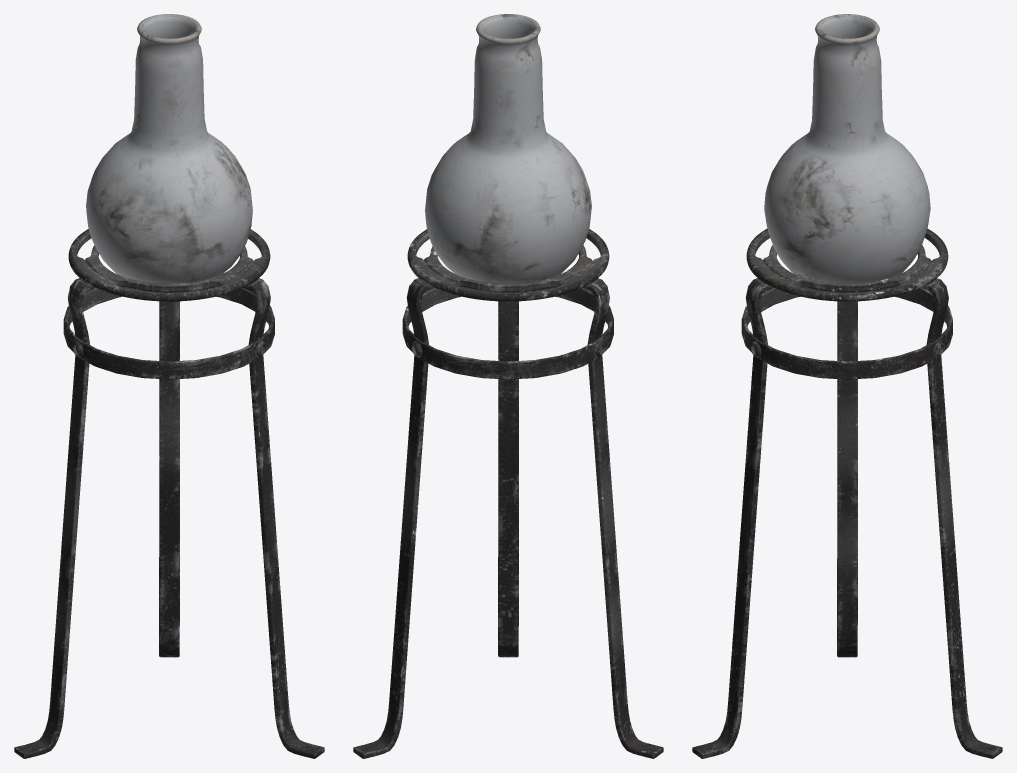
The model's file is Flask04.fbx.
3 renders of one model, left to right at view 1: azimuth 30°, elevation 25°; view 2: azimuth 150°, elevation 25°; view 3: azimuth 270°, elevation 25°, orthographic.
Parts seen in each view (by area): view 1: KuJ AL Flask 04.Shape; view 2: KuJ AL Flask 04.Shape; view 3: KuJ AL Flask 04.Shape.
Boxes of the visible parts, x1,y1,x2,y2 form: KuJ AL Flask 04.Shape: (14, 14, 324, 758); KuJ AL Flask 04.Shape: (353, 14, 663, 758); KuJ AL Flask 04.Shape: (692, 14, 1002, 758).
Bounding box in the file's own units: 23.89 × 65.33 × 26.54.
Materials: 3 (2 with a texture image).
